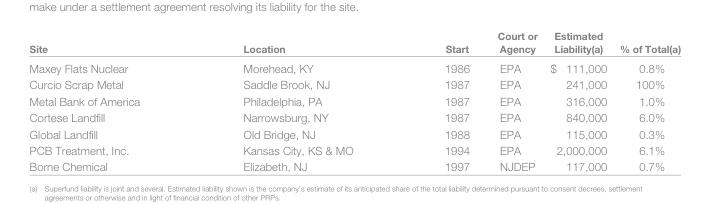table: (28, 29, 680, 172)
table column: (190, 29, 398, 172), (28, 29, 190, 172), (398, 29, 482, 172), (543, 29, 612, 172), (612, 29, 680, 172), (482, 29, 543, 172)
table column header: (28, 29, 680, 57)
table row: (28, 29, 680, 57), (28, 57, 680, 75), (28, 75, 680, 92), (28, 108, 680, 125), (28, 92, 680, 108), (28, 125, 680, 141), (28, 141, 680, 157), (28, 157, 680, 172)
